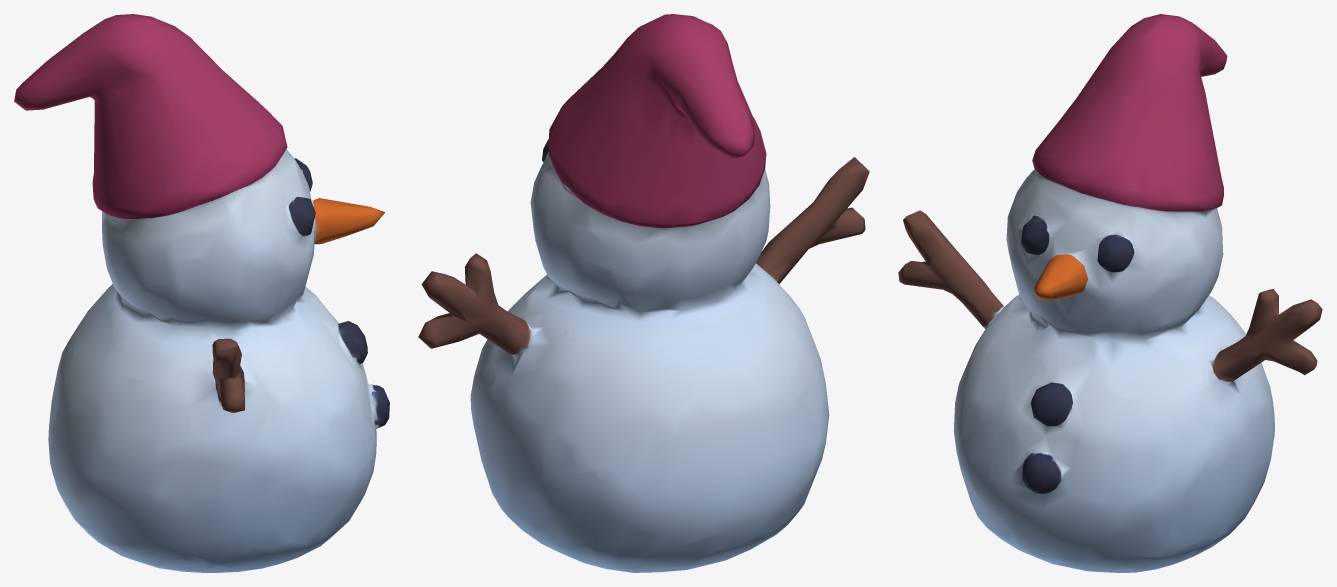
File: snowman.glb
3 views of the same model, side by side, from view 1: azimuth 30°, elevation 25°; view 2: azimuth 150°, elevation 25°; view 3: azimuth 270°, elevation 25° (orthographic). The views are drawn at different scales.
Parts seen in each view (by area): view 1: tripo_node_dc79cca9-f51f-40e8-ba46-325781b8121b; view 2: tripo_node_dc79cca9-f51f-40e8-ba46-325781b8121b; view 3: tripo_node_dc79cca9-f51f-40e8-ba46-325781b8121b.
Part boxes in pixels (bbox=[...]): tripo_node_dc79cca9-f51f-40e8-ba46-325781b8121b: bbox=[14, 14, 389, 572]; tripo_node_dc79cca9-f51f-40e8-ba46-325781b8121b: bbox=[418, 14, 869, 572]; tripo_node_dc79cca9-f51f-40e8-ba46-325781b8121b: bbox=[898, 14, 1322, 572].
Bounding box in the file's own units: 0.5832 × 1 × 0.7712.
Materials: 1 (1 with a texture image).
